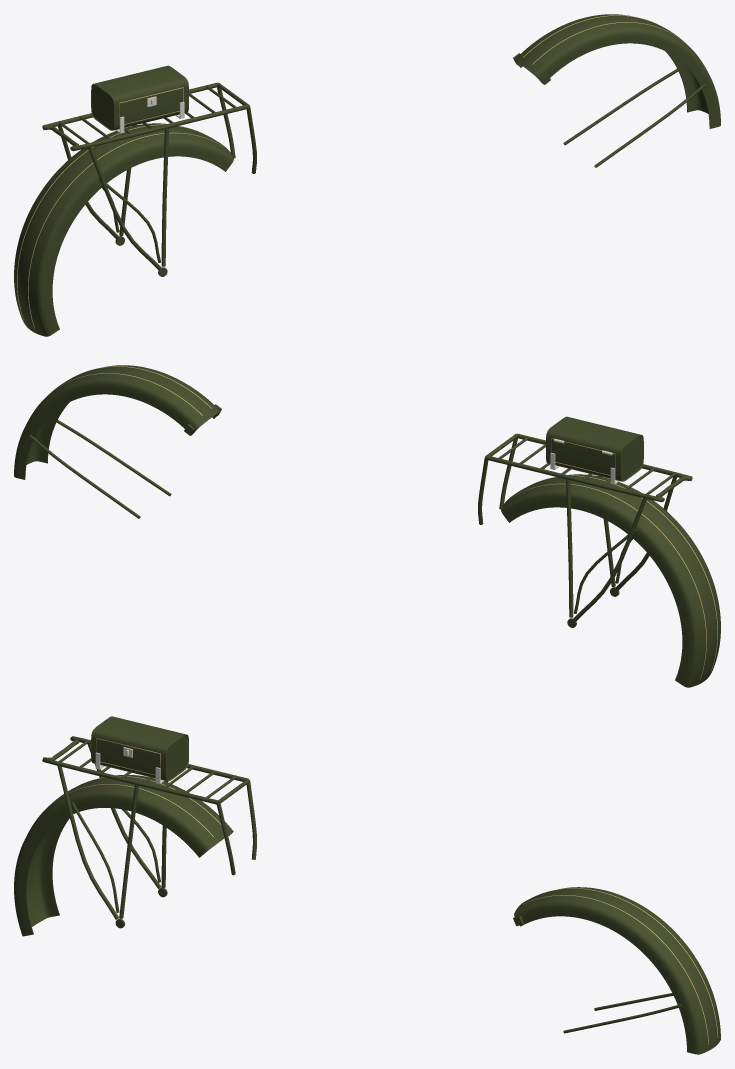
Rendered from bike_vintage_vtwin__bodywork.glb.
3 renders of one model, top to bottom at view 1: azimuth 30°, elevation 25°; view 2: azimuth 150°, elevation 25°; view 3: azimuth 330°, elevation 25°, orthographic.
Visible parts, largest first — view 1: frame_body__rear_mudguard, frame_body__front_mudguard, frame_body__carrier, frame_body__toolbox, frame_body__front_mudguard__stays, frame_body__front_mudguard__pinstripes; view 2: frame_body__rear_mudguard, frame_body__front_mudguard, frame_body__carrier, frame_body__toolbox, frame_body__front_mudguard__stays, frame_body__front_mudguard__pinstripes; view 3: frame_body__rear_mudguard, frame_body__front_mudguard, frame_body__carrier, frame_body__toolbox, frame_body__front_mudguard__pinstripes, frame_body__front_mudguard__stays, frame_body__rear_mudguard__stays.
Part boxes in pixels (x1=…): frame_body__rear_mudguard: x1=14, y1=123, x2=233, y2=336; frame_body__front_mudguard: x1=514, y1=14, x2=720, y2=128; frame_body__carrier: x1=42, y1=82, x2=256, y2=276; frame_body__toolbox: x1=91, y1=65, x2=188, y2=130; frame_body__front_mudguard__stays: x1=513, y1=53, x2=705, y2=167; frame_body__front_mudguard__pinstripes: x1=17, y1=15, x2=704, y2=328; frame_body__rear_mudguard: x1=501, y1=474, x2=720, y2=687; frame_body__front_mudguard: x1=14, y1=365, x2=220, y2=479; frame_body__carrier: x1=478, y1=433, x2=692, y2=627; frame_body__toolbox: x1=546, y1=416, x2=643, y2=481; frame_body__front_mudguard__stays: x1=29, y1=404, x2=221, y2=518; frame_body__front_mudguard__pinstripes: x1=30, y1=366, x2=717, y2=679; frame_body__rear_mudguard: x1=14, y1=775, x2=233, y2=936; frame_body__front_mudguard: x1=514, y1=887, x2=720, y2=1054; frame_body__carrier: x1=42, y1=736, x2=256, y2=928; frame_body__toolbox: x1=91, y1=716, x2=188, y2=781; frame_body__front_mudguard__pinstripes: x1=31, y1=776, x2=718, y2=1044; frame_body__front_mudguard__stays: x1=513, y1=915, x2=682, y2=1033; frame_body__rear_mudguard__stays: x1=71, y1=802, x2=160, y2=912.
Bounding box in the file's own units: 230 × 70.93 × 25.6.
